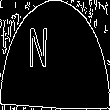N_S: (44, 29, 66, 81)
